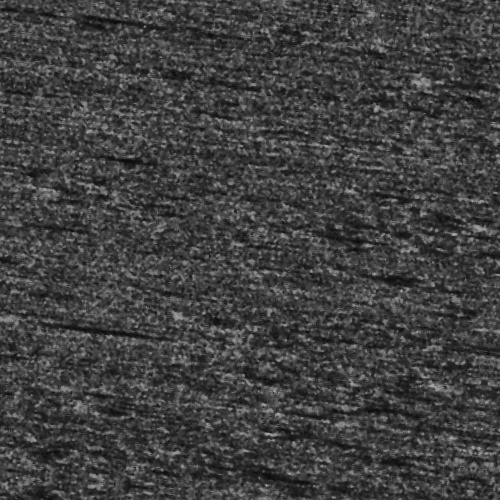object: (415, 187, 500, 198), (440, 353, 493, 362), (0, 341, 48, 350)
shadow: (12, 341, 148, 350), (466, 353, 500, 362), (478, 187, 500, 198)
